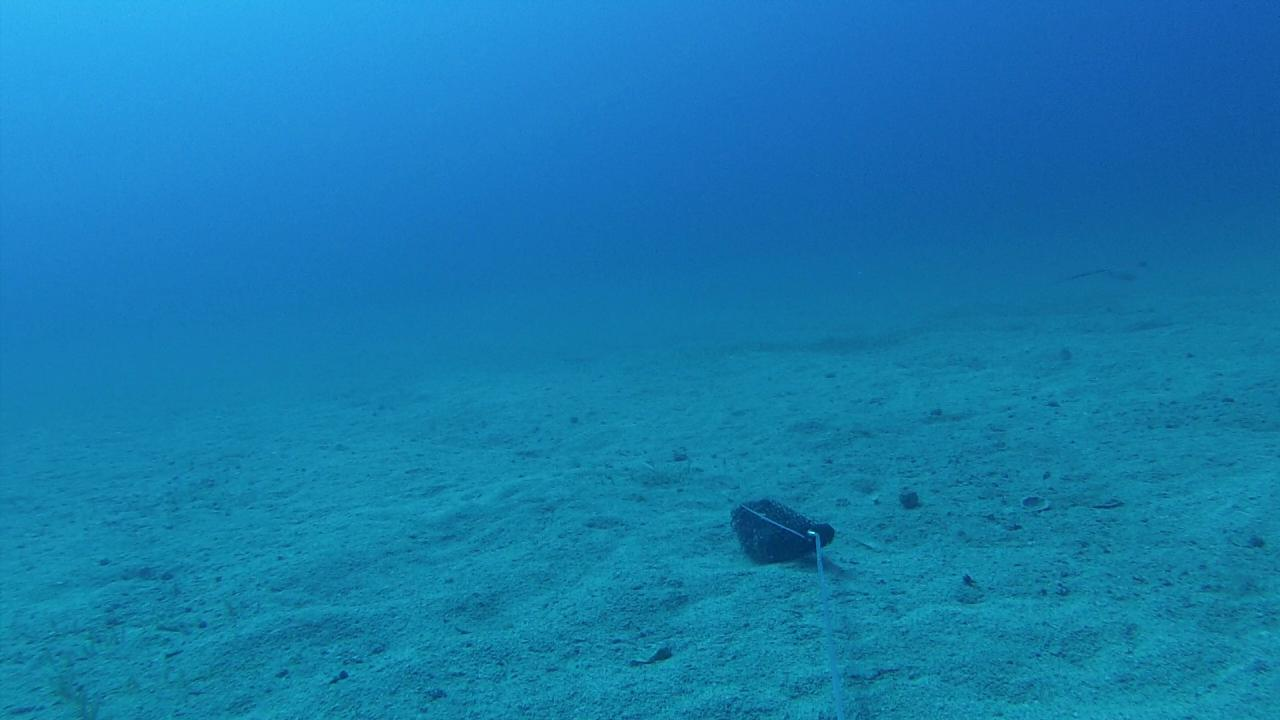dasyatis: (1064, 259, 1148, 283)
